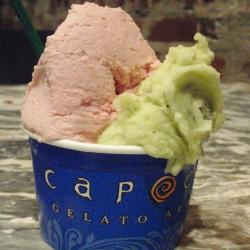icecream: (17, 4, 215, 182)
